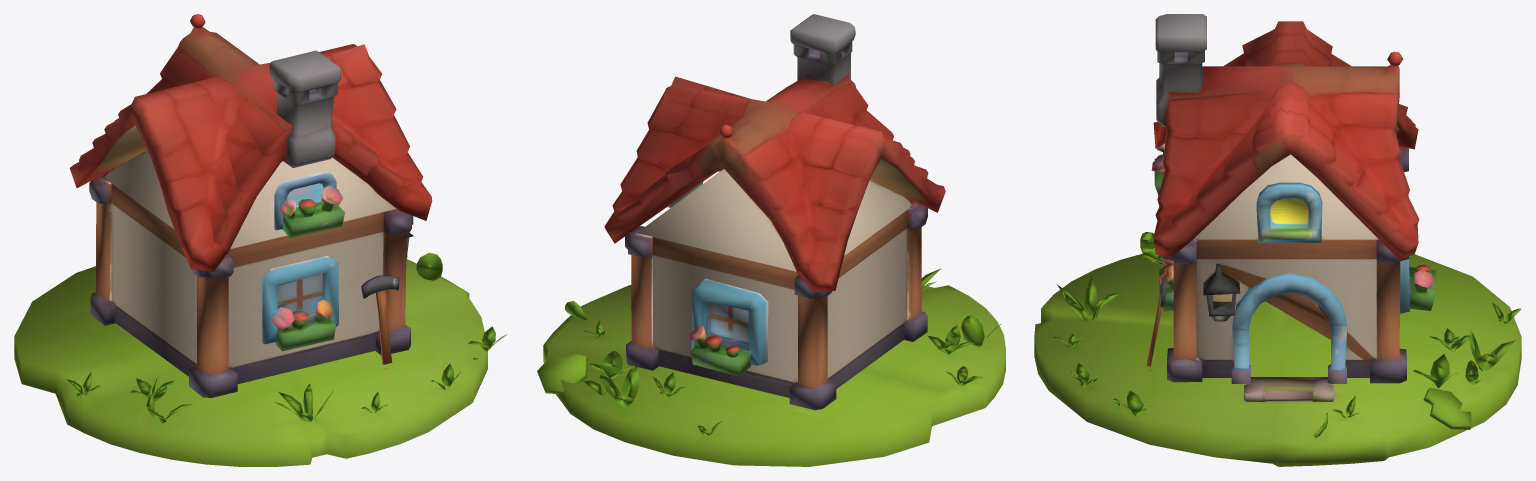
File: casa.glb
3 renders of one model, left to right at view 1: azimuth 30°, elevation 25°; view 2: azimuth 150°, elevation 25°; view 3: azimuth 270°, elevation 25°, orthographic. The views are drawn at different scales.
Visible parts, largest first — view 1: tripo_node_02fde144-3897-4d3b-a10b-d22f1667a80f; view 2: tripo_node_02fde144-3897-4d3b-a10b-d22f1667a80f; view 3: tripo_node_02fde144-3897-4d3b-a10b-d22f1667a80f.
Part boxes in pixels (x1,y1,x2,y2): tripo_node_02fde144-3897-4d3b-a10b-d22f1667a80f: [14, 14, 507, 466]; tripo_node_02fde144-3897-4d3b-a10b-d22f1667a80f: [537, 14, 1005, 466]; tripo_node_02fde144-3897-4d3b-a10b-d22f1667a80f: [1034, 14, 1521, 466].
Size of the model in its own units: 0.998 by 0.7637 by 0.998.
Materials: 1 (1 with a texture image).
